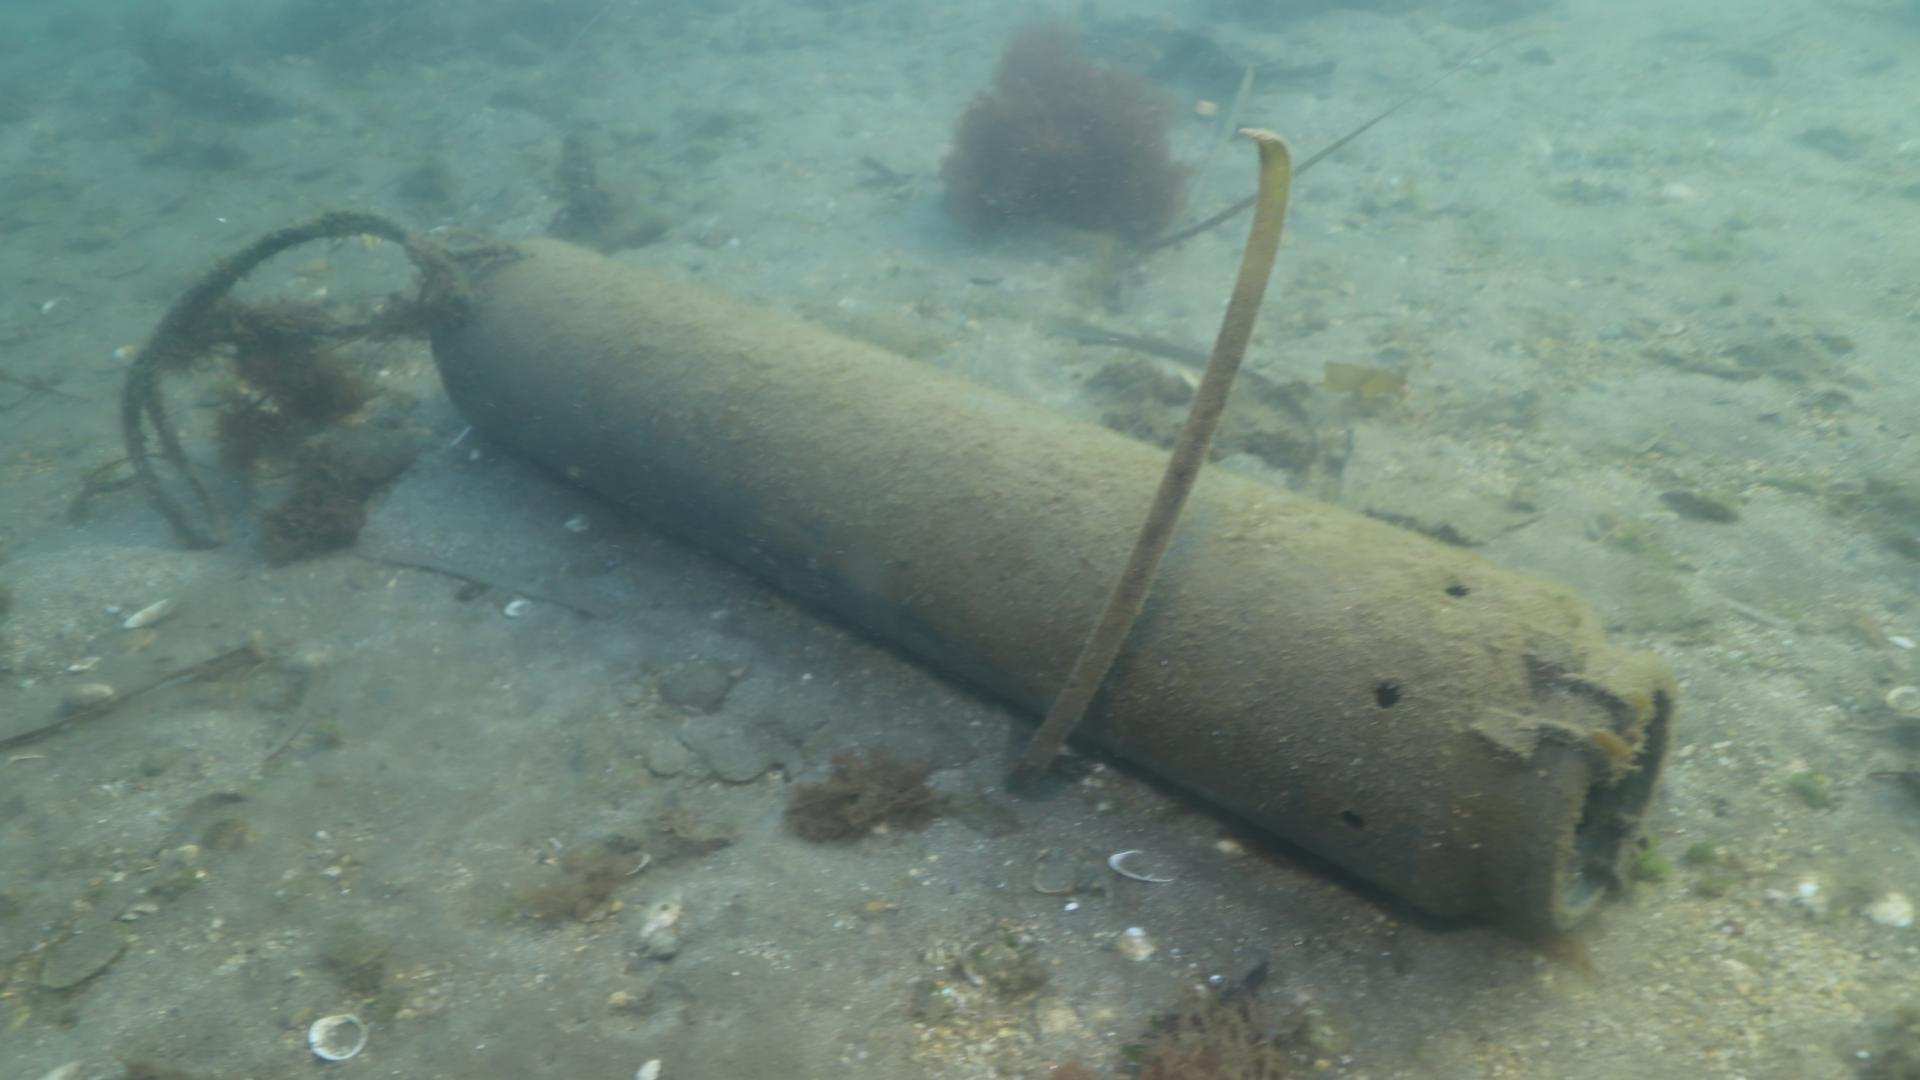bundle of ropes: (120, 211, 525, 545)
eel fish trap: (429, 231, 1679, 932)
